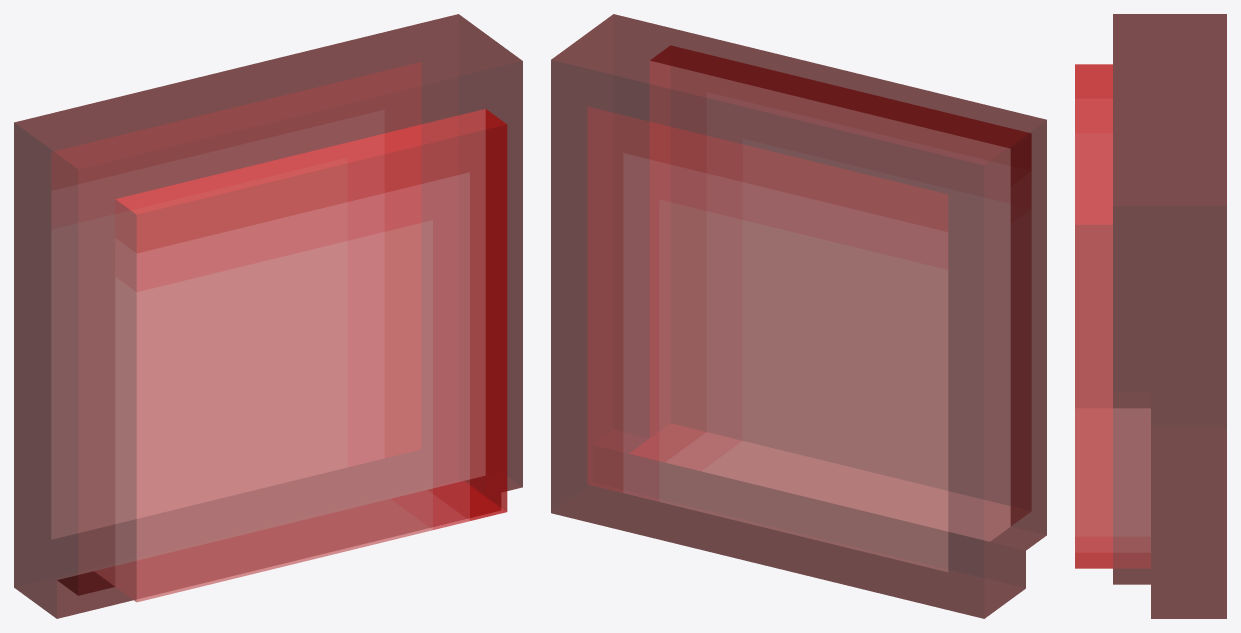
File: screen_red.glb
The picture shows the model from 3 angles, left to right: view 1: azimuth 30°, elevation 25°; view 2: azimuth 150°, elevation 25°; view 3: azimuth 270°, elevation 25°; orthographic projection. The views are drawn at different scales.
Parts seen in each view (by area): view 1: bb0 screen; view 2: bb0 screen; view 3: bb0 screen.
Boxes of the visible parts, bbox=[...] form: bb0 screen: bbox=[14, 14, 522, 618]; bb0 screen: bbox=[551, 14, 1046, 618]; bb0 screen: bbox=[1075, 14, 1226, 618].
Size of the model in its own units: 12 by 12 by 4.
